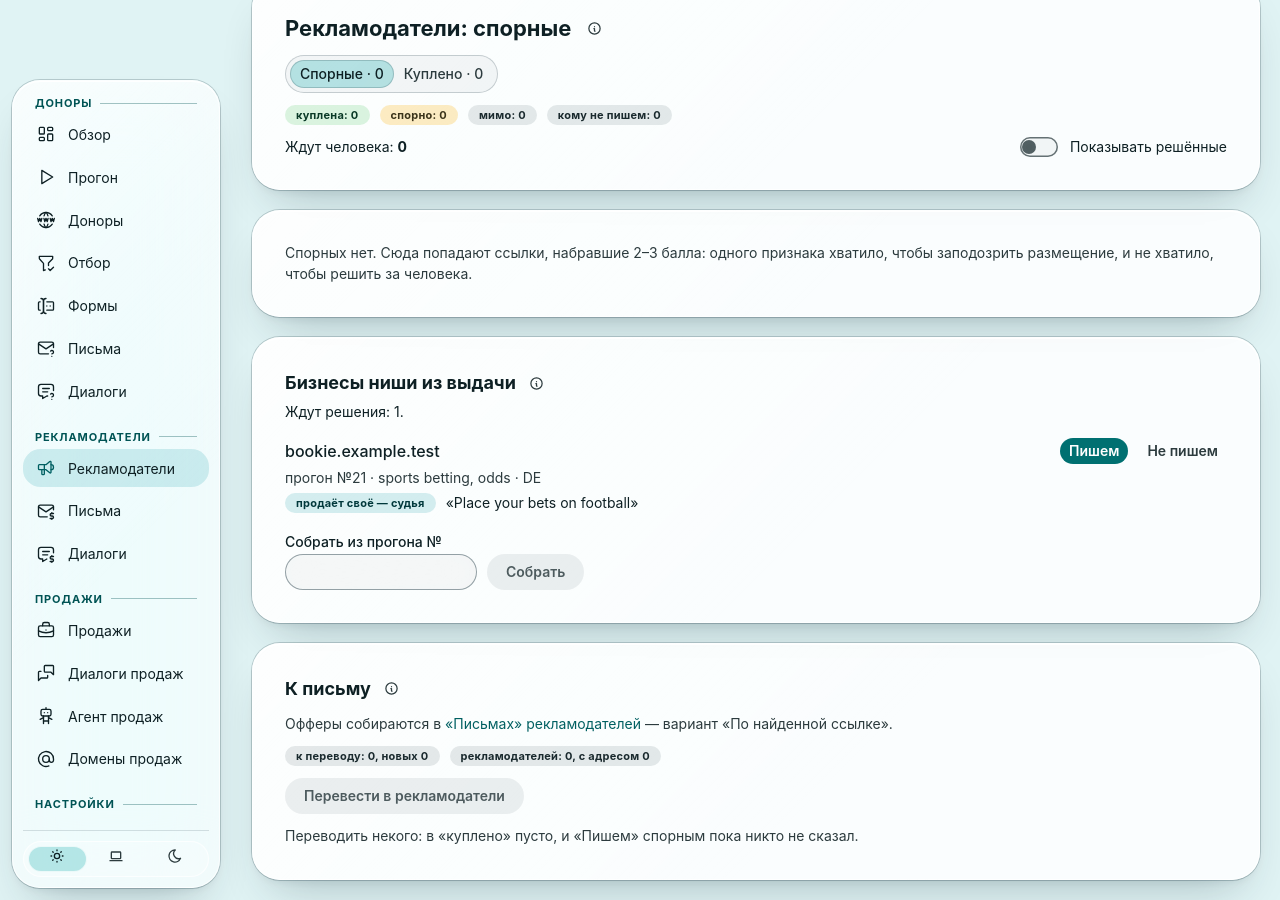
it: бизнесы ниши из выдачи › «1.5» не склеивается в 15: в поле — как набрано, отказ словами, сбор закрыт
The width and height of the screenshot is (1280, 900).
(page scrolled)
Expected: the text "bookie.example.test" is shown, left=285, top=439, right=440, bottom=464
Type "1.5" into the field labelled "Собрать из прогона №" at (381, 572), box left=285, top=554, right=477, bottom=590
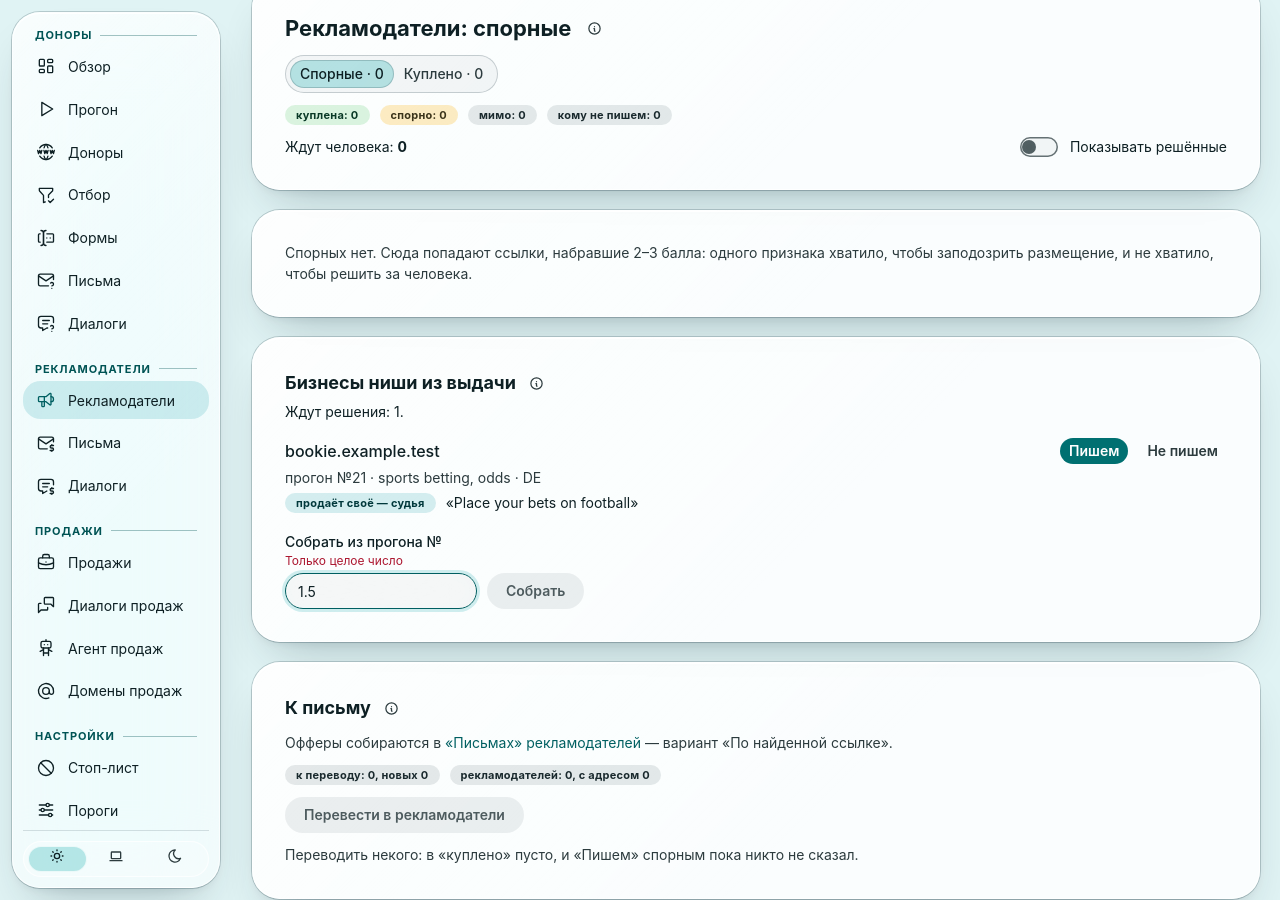
Expected: the button "Собрать" is disabled, left=487, top=573, right=584, bottom=609
Now the text "Только целое число" is shown, box left=285, top=553, right=403, bottom=568
